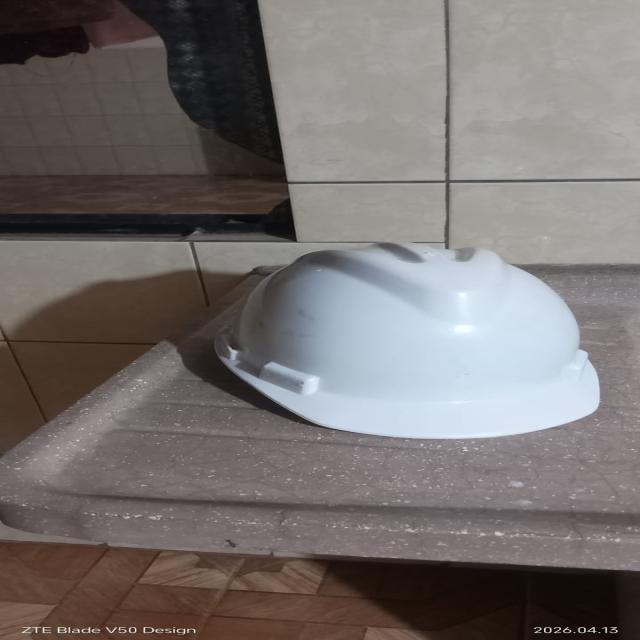casco: (219, 234, 612, 444)
